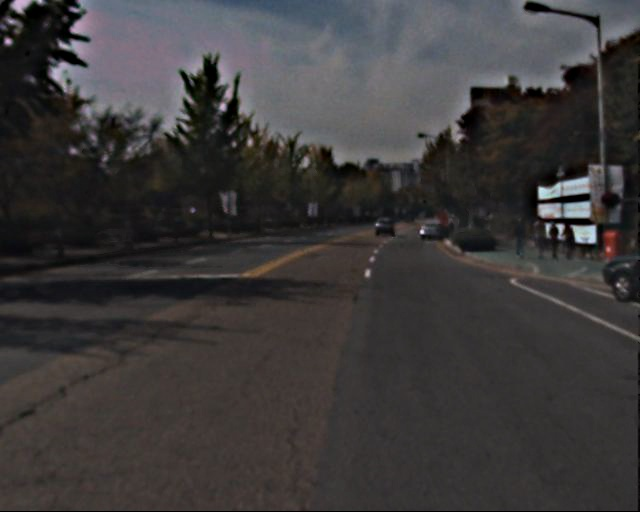person: (513, 214, 532, 260), (530, 214, 549, 260), (561, 220, 579, 264), (546, 221, 564, 264)
